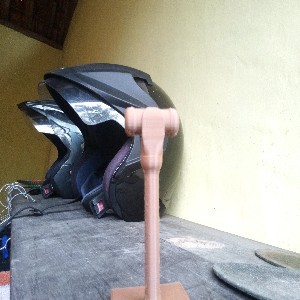palu: (124, 105, 180, 300)
